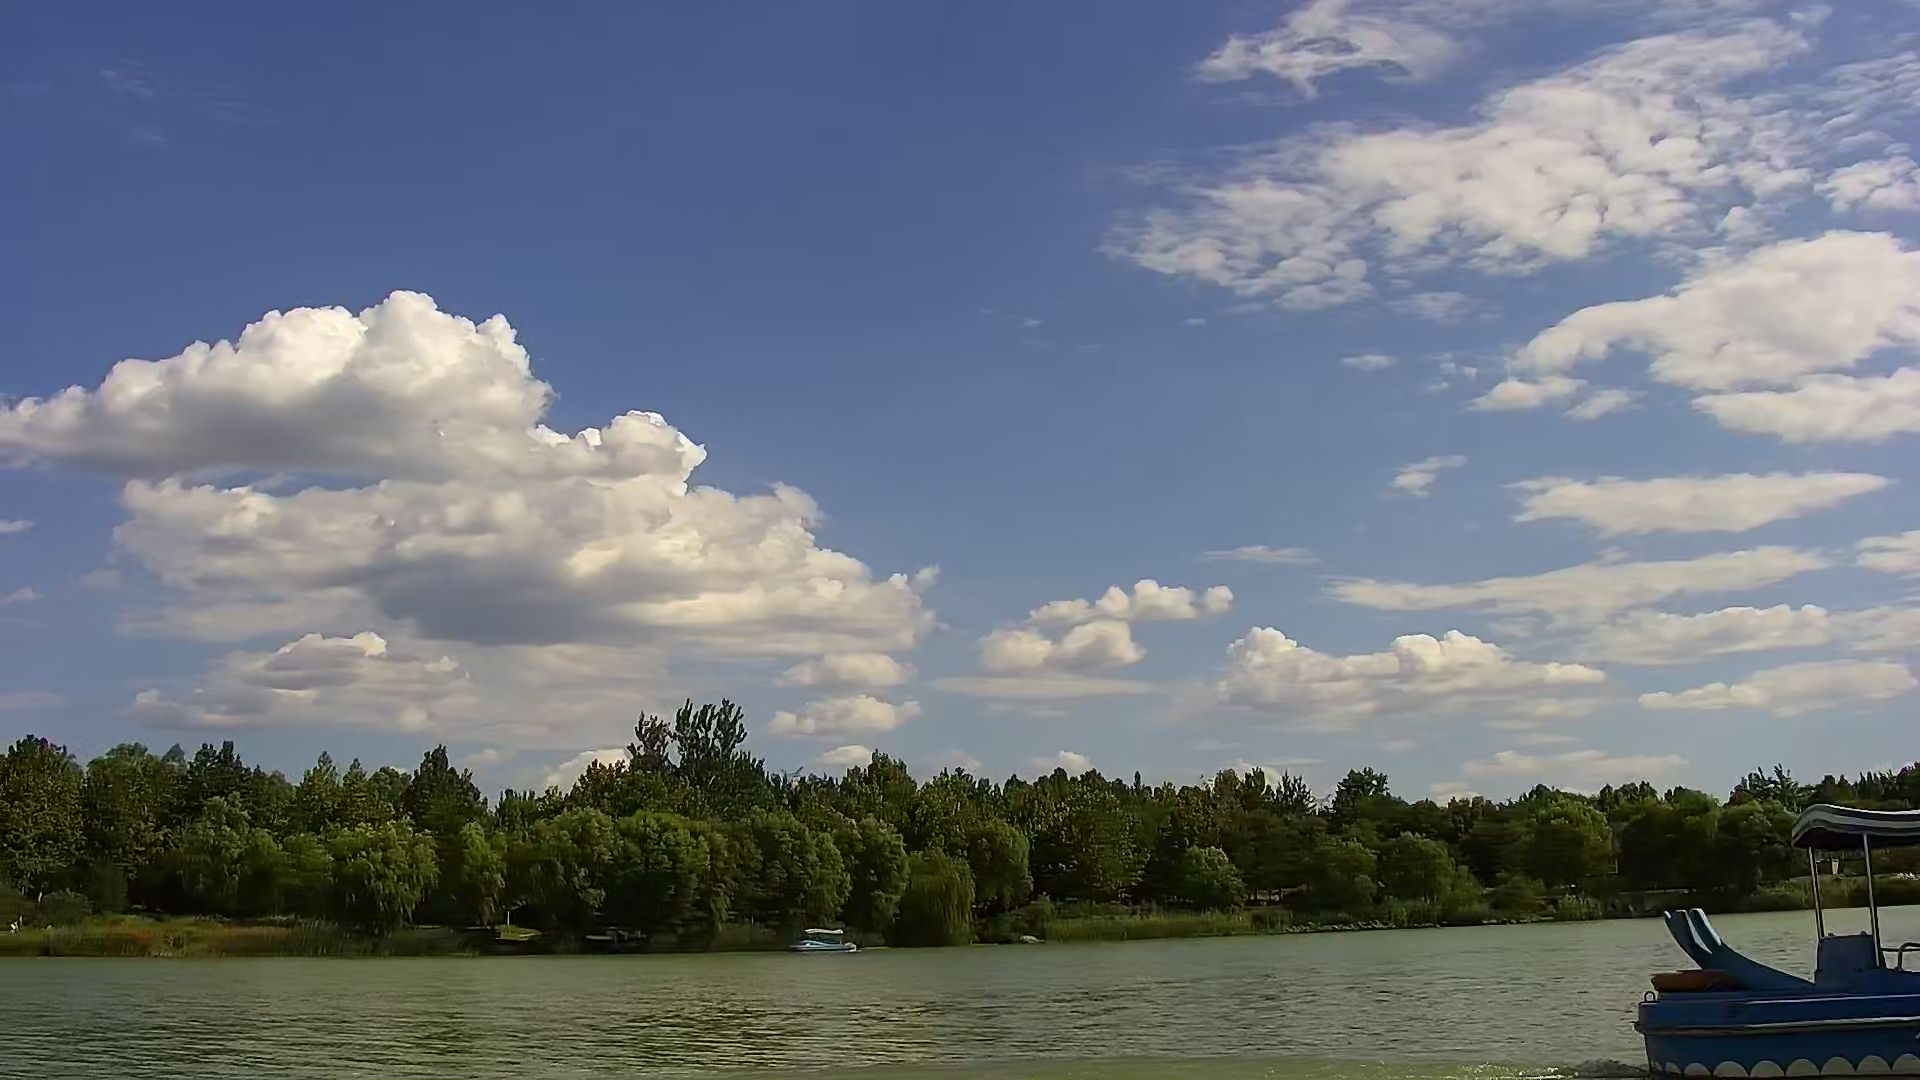boat: (791, 922, 873, 956)
